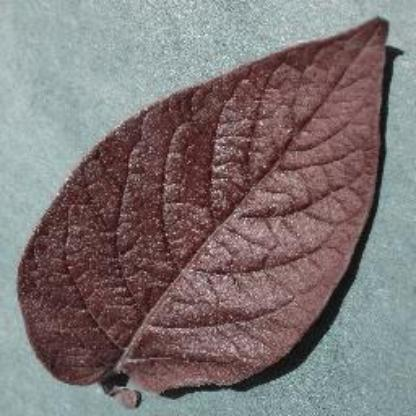Healthy-plant: (13, 15, 393, 398)
